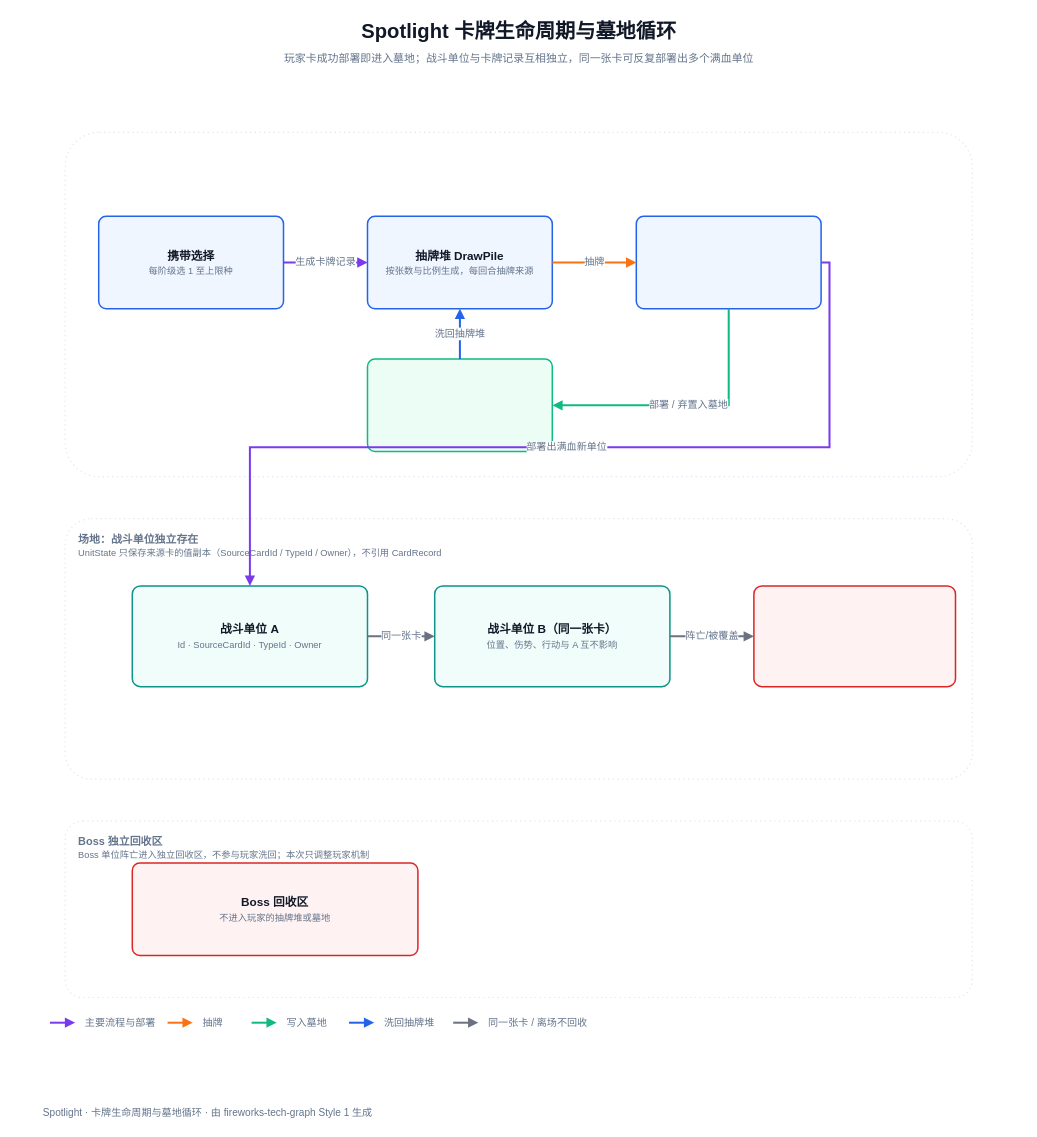
Image size: 1037x1137. Some labels were removed from this diagram. The box of each missing label's shape, as (x1, y1, x2, y2) in pixels:
墓地 Graveyard 成功部署或弃置的玩家卡: (366, 358, 553, 452)
循环区：卡牌记录唯一流转，总数恒定 携带选择 → 抽牌堆 → 手牌 → 墓地 →（耗尽）→ 洗回抽牌堆: (64, 131, 972, 477)
手牌 Hand 已抽到、未打出，不参与洗回: (635, 215, 821, 309)
离场：阵亡 / 被覆盖 来源卡不重复回收: (753, 585, 956, 687)
